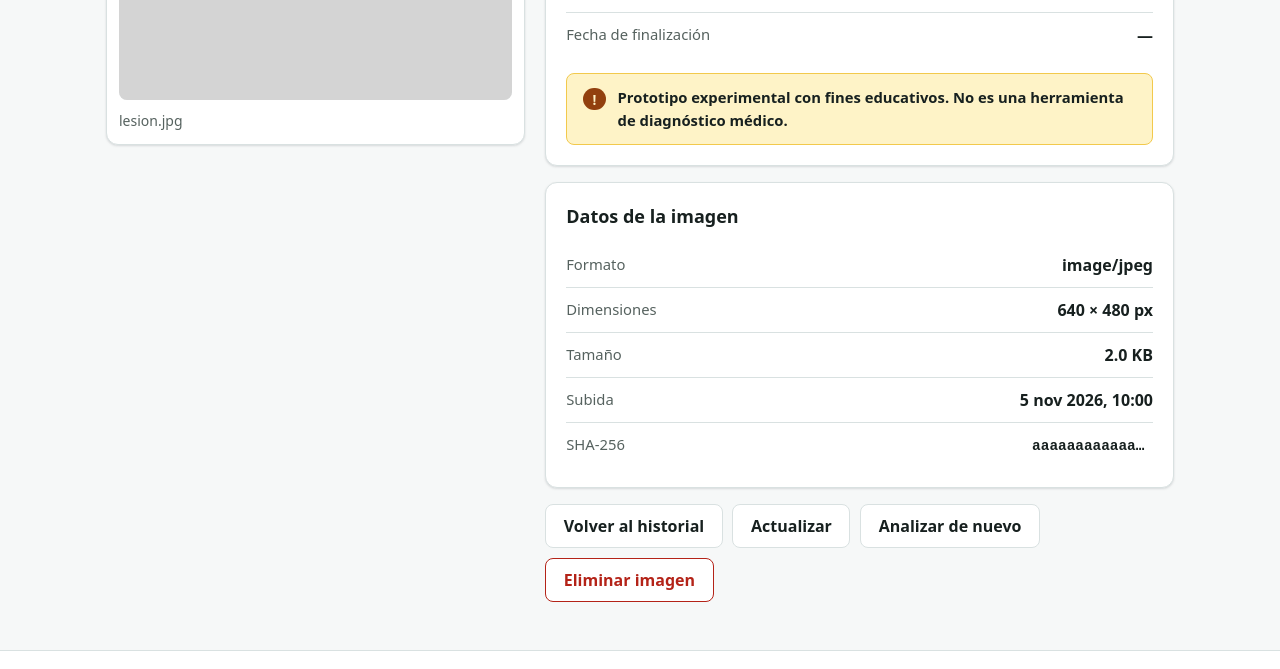
Scenario: AnalysisPage › muestra el error si no se puede solicitar un nuevo análisis
(page scrolled)
Click the button "Analizar de nuevo": x=950, y=526 left=860, top=504, right=1040, bottom=548
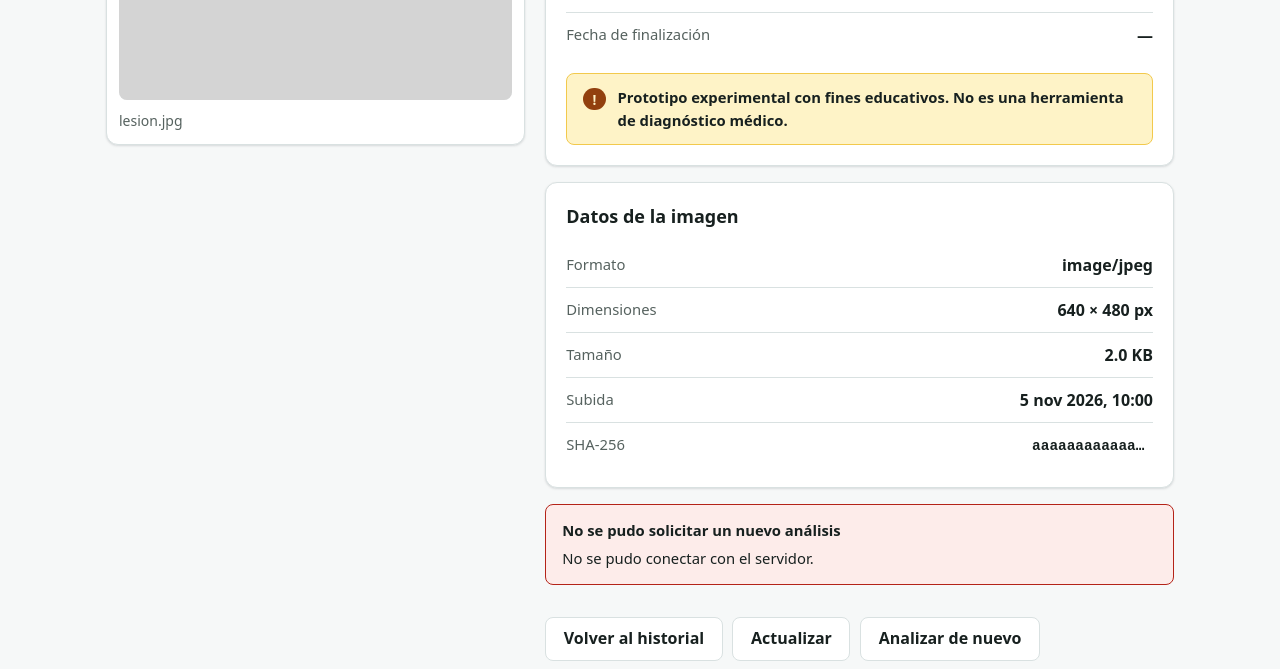
Result: the message shows "No se pudo solicitar un nuevo análisis" at left=562, top=520, right=841, bottom=540
